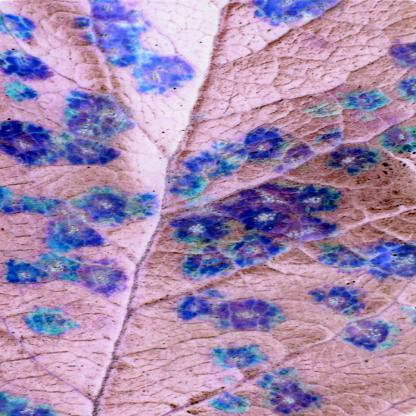Apple rust leaf: (1, 0, 412, 415)
